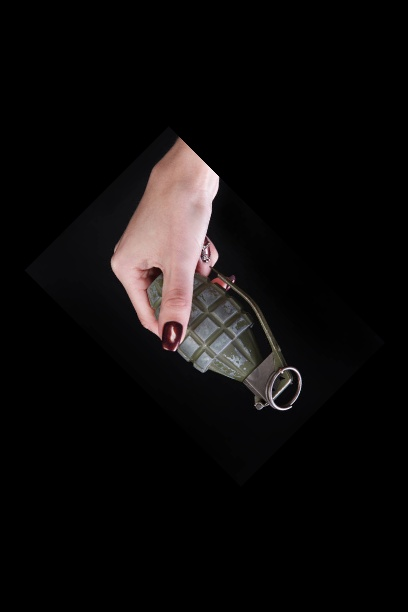e1: (140, 268, 307, 422)
